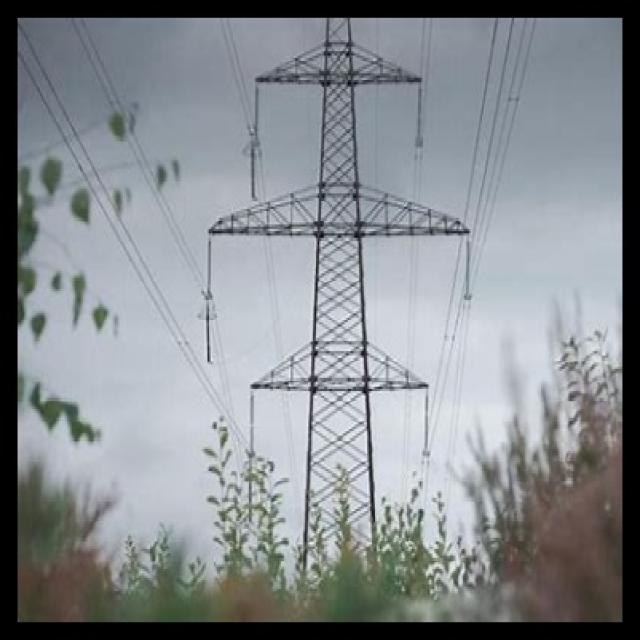utility poles: (206, 360, 467, 614)
